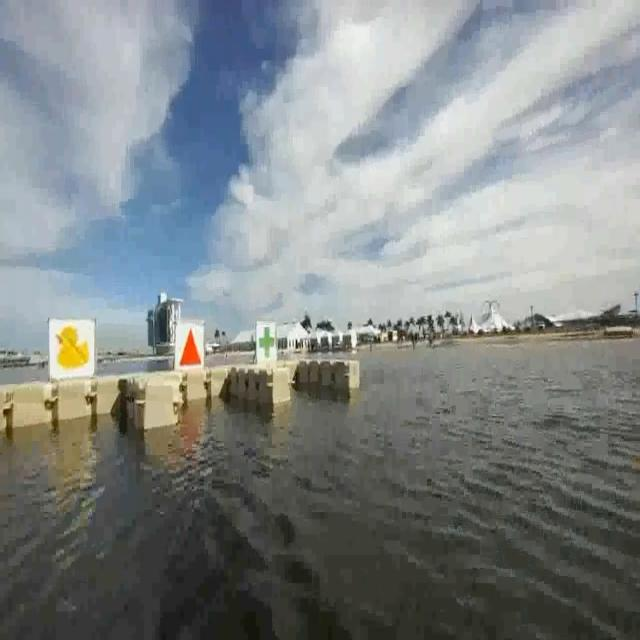blue-cross: (257, 320, 278, 363)
red-dot: (175, 316, 203, 365)
yellow-duck: (50, 316, 97, 379)
